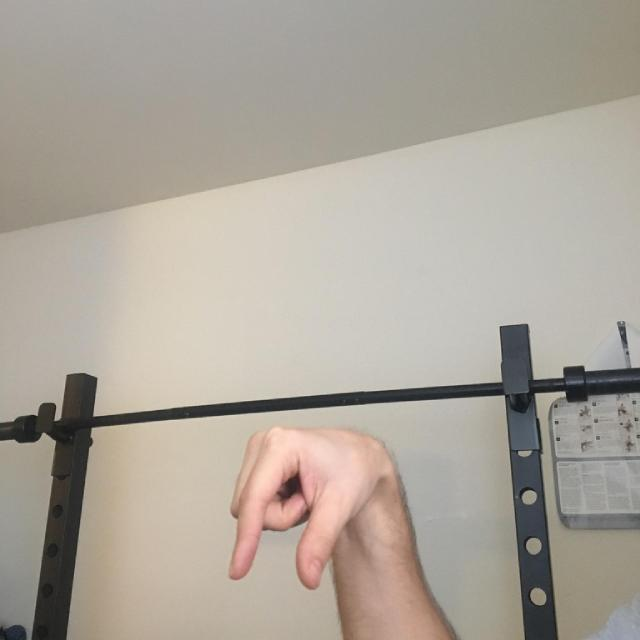Q: (212, 360, 443, 623)
